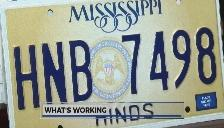4: (147, 30, 171, 92)
7: (121, 33, 149, 97)
8: (194, 25, 218, 86)
9: (169, 28, 194, 89)
B: (68, 39, 95, 103)
H: (10, 43, 40, 111)
L: (0, 43, 11, 124)
N: (40, 40, 70, 107)
